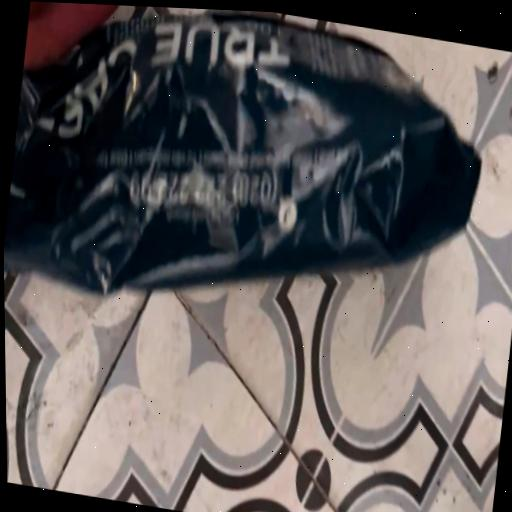cafe_hat: (4, 12, 480, 294)
